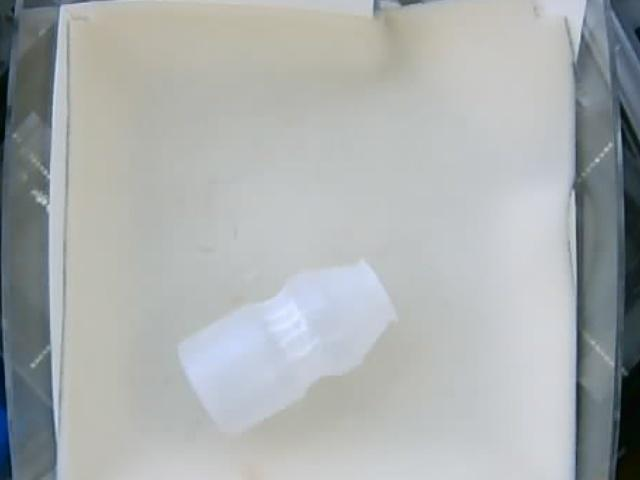Bottle: (180, 260, 401, 434)
